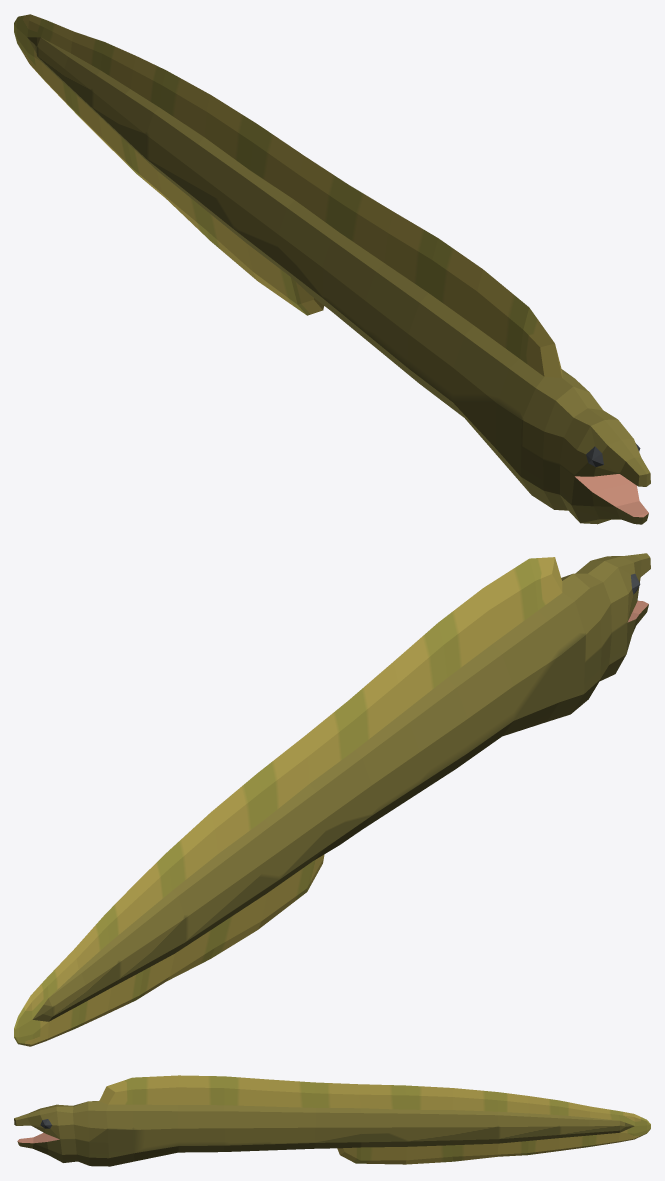
The model's file is SM_Prop_Eel_01.fbx.
3 renders of one model, top to bottom at view 1: azimuth 30°, elevation 25°; view 2: azimuth 150°, elevation 25°; view 3: azimuth 270°, elevation 25°, orthographic. The views are drawn at different scales.
Parts seen in each view (by area): view 1: SM_Prop_Eel_01; view 2: SM_Prop_Eel_01; view 3: SM_Prop_Eel_01.
Part boxes in pixels (<box>): SM_Prop_Eel_01: <box>14,14,650,524</box>; SM_Prop_Eel_01: <box>14,553,650,1046</box>; SM_Prop_Eel_01: <box>14,1075,650,1166</box>.
Size of the model in its own units: 9.86 by 26.31 by 170.
